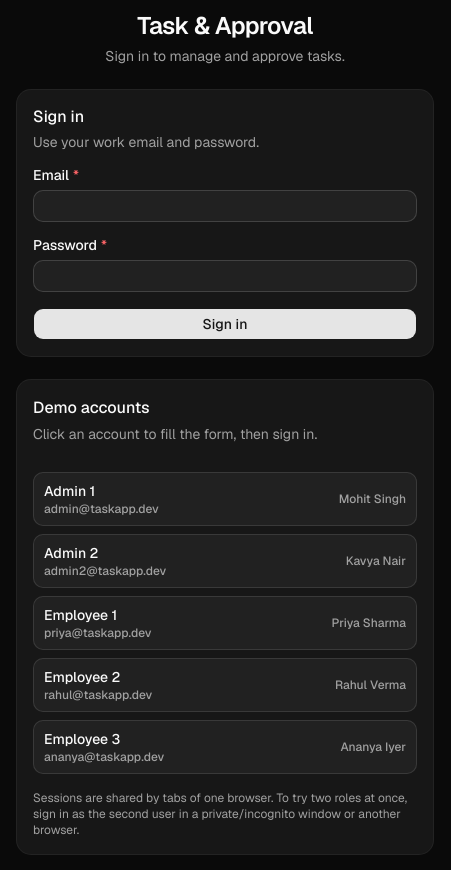
Test case: LoginPage › fills the form when a demo account is clicked
The width and height of the screenshot is (451, 870).
What coordinates should you click on to do the following:
click the button "Employee 1 priya@taskapp.dev Priya Sharma"
I would click on:
 (81, 615)
Its box is [33,596,417,650].
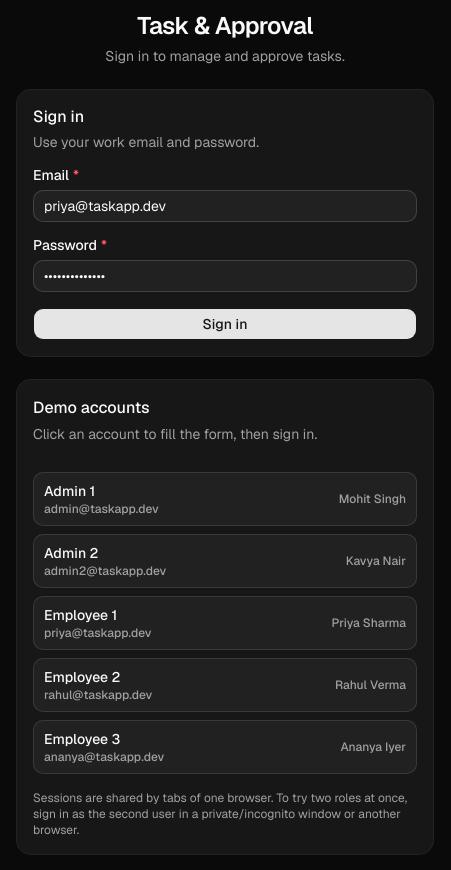
Expected: the text "incognito" is shown, [33,790,407,838]
Expected: the field labelled "Email *" holds "priya@taskapp.dev", [33,190,417,222]
Expected: the password field labelled "Password *" holds "Employee@12345", [33,260,417,292]
